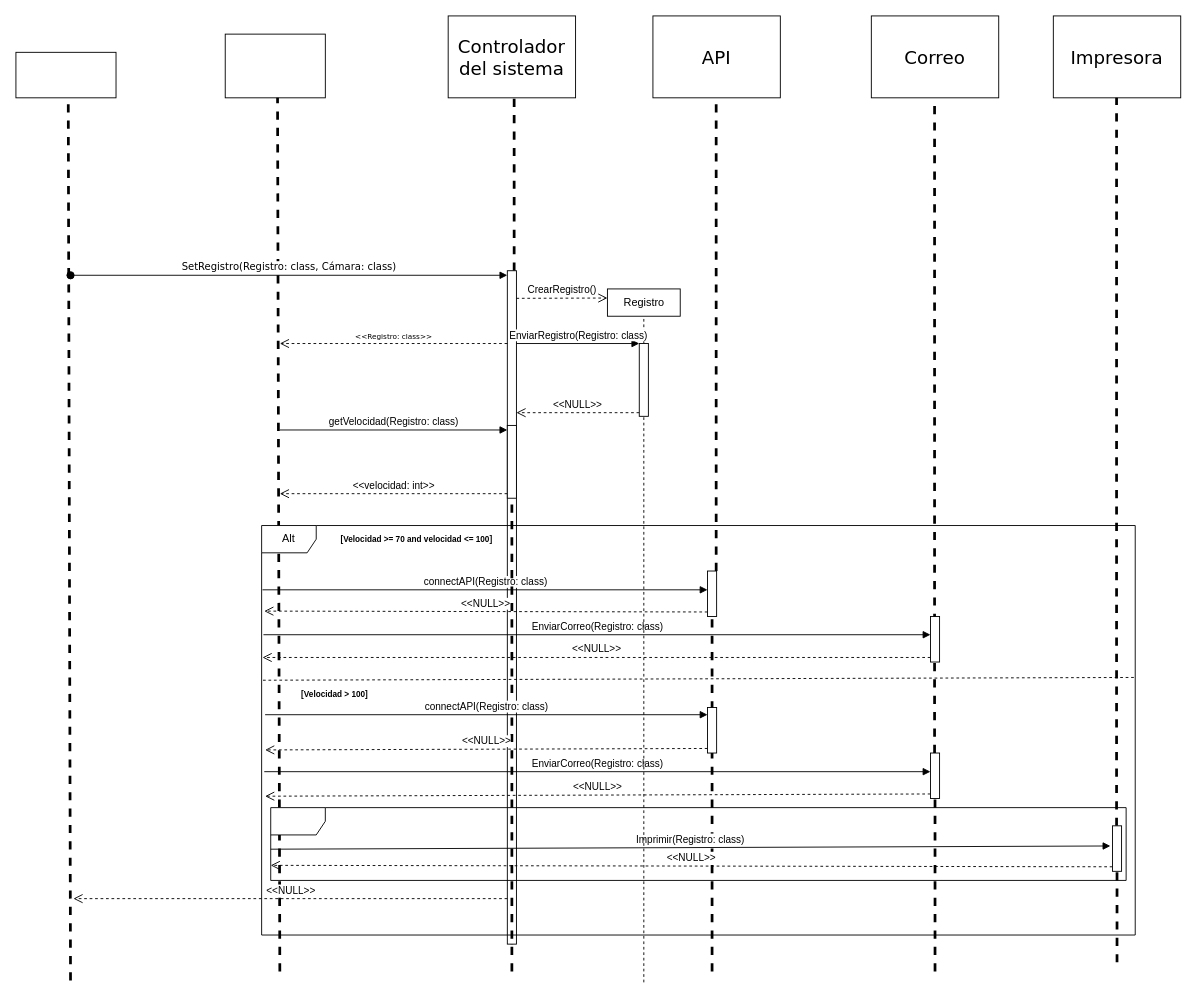
Image size: 1197x999. Some labels were removed from this diagram. Here are the shapes that lost their labels. From the top down, the centre of each, then its label:
At (65,74): "Cámara".
At (274,65): "Sistema".
At (698,843): "Loop (3)".
